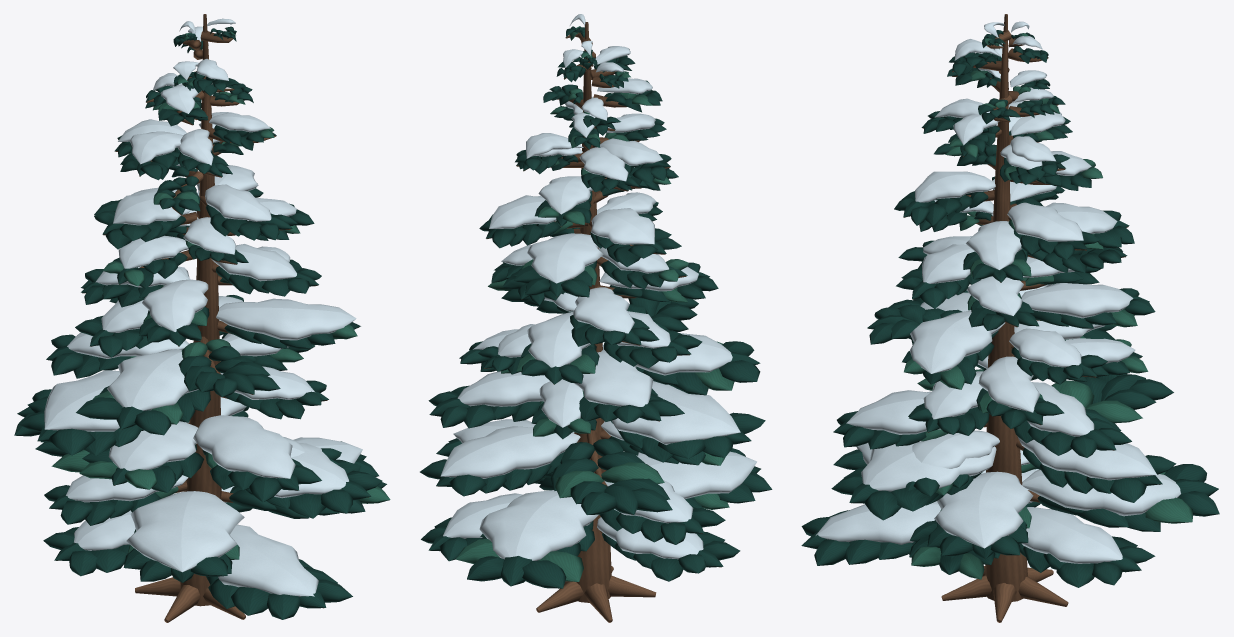
Rendered from pine_3.glb.
3 renders of one model, left to right at view 1: azimuth 30°, elevation 25°; view 2: azimuth 150°, elevation 25°; view 3: azimuth 270°, elevation 25°, orthographic.
Visible parts, largest first — view 1: pine_3; view 2: pine_3; view 3: pine_3.
Boxes of the visible parts, <box> form: pine_3: <box>14,14,390,622</box>; pine_3: <box>420,14,772,622</box>; pine_3: <box>801,14,1219,622</box>.
Bounding box in the file's own units: 2.69 × 4.67 × 3.04.
Materials: 4 (4 with a texture image).
